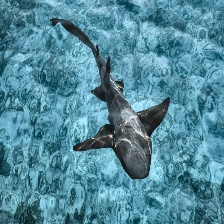shark: (72, 56, 171, 180)
